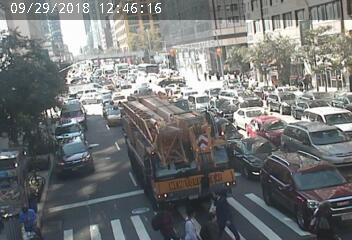car: (134, 95, 213, 180), (273, 154, 323, 202), (59, 143, 101, 177), (242, 139, 272, 167), (303, 130, 330, 156), (317, 105, 344, 129), (258, 114, 279, 139), (64, 107, 90, 125), (74, 90, 109, 103), (238, 105, 259, 122), (59, 129, 84, 143), (228, 85, 249, 99), (73, 80, 98, 91), (278, 92, 294, 109), (138, 62, 159, 74), (192, 95, 207, 110), (105, 104, 118, 120), (216, 100, 233, 112), (116, 63, 128, 75), (179, 82, 191, 93), (104, 66, 115, 74), (112, 90, 121, 98), (307, 97, 315, 104), (264, 85, 268, 90)
